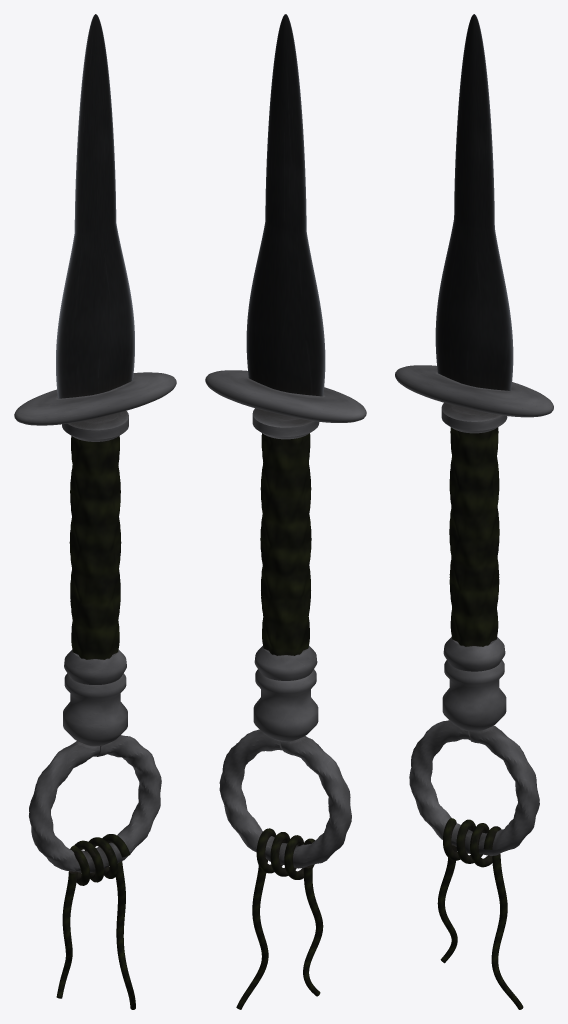
Rendered from throwing_knife_hd.glb.
The picture shows the model from 3 angles, left to right: view 1: azimuth 30°, elevation 25°; view 2: azimuth 150°, elevation 25°; view 3: azimuth 330°, elevation 25°; orthographic projection. The views are drawn at different scales.
Parts seen in each view (by area): view 1: Weapon; view 2: Weapon; view 3: Weapon.
Part boxes in pixels (x1,y1,x2,y2): Weapon: [14, 14, 176, 1009]; Weapon: [205, 14, 366, 1009]; Weapon: [395, 14, 553, 1009].
Size of the model in its own units: 0.0535 by 0.3249 by 0.0196.
Materials: 1 (1 with a texture image).
